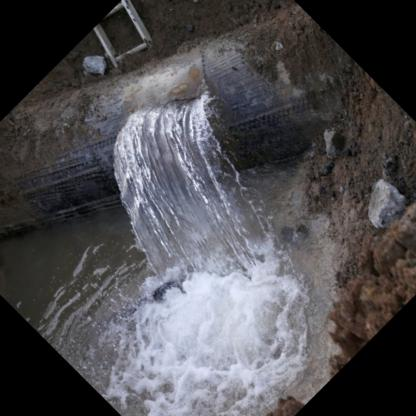burst: (103, 91, 228, 135)
